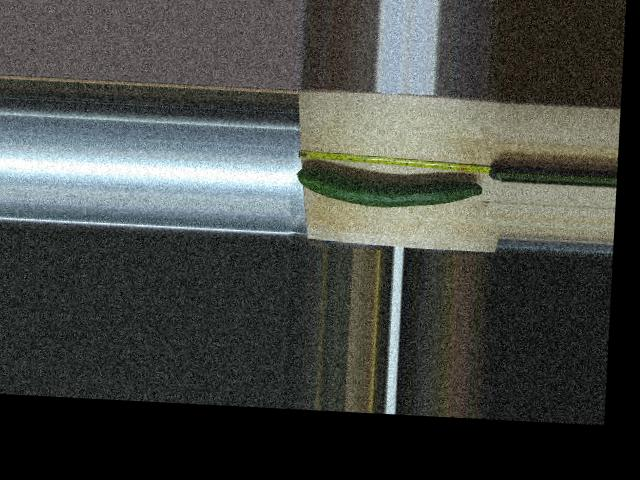cucumber: (296, 166, 483, 211)
